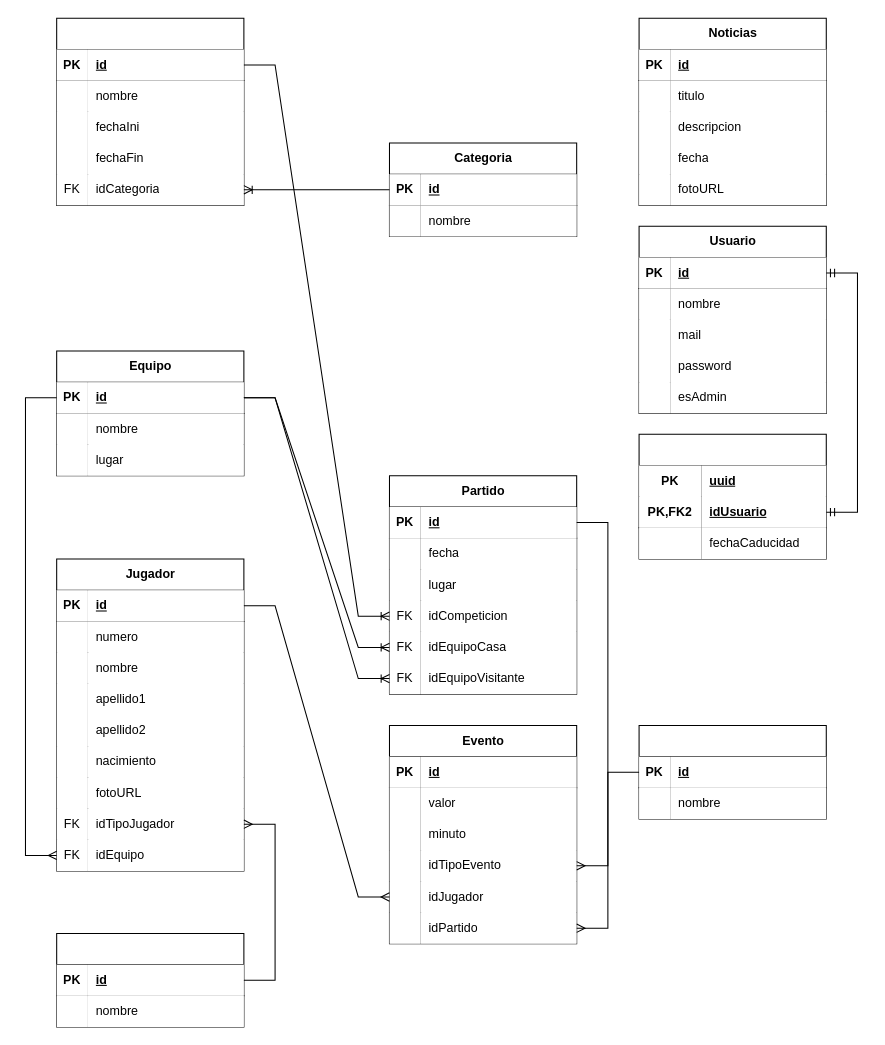
Some shapes in this 885 by 1045 pixel diagram are drawn without their labels. Here are the shapes that lost their labels. From the top down, the box of each, then its label:
(56, 17, 244, 205): Competicion
(638, 433, 826, 559): Login
(638, 724, 826, 819): TipoEvento
(56, 932, 244, 1027): TipoJugador
